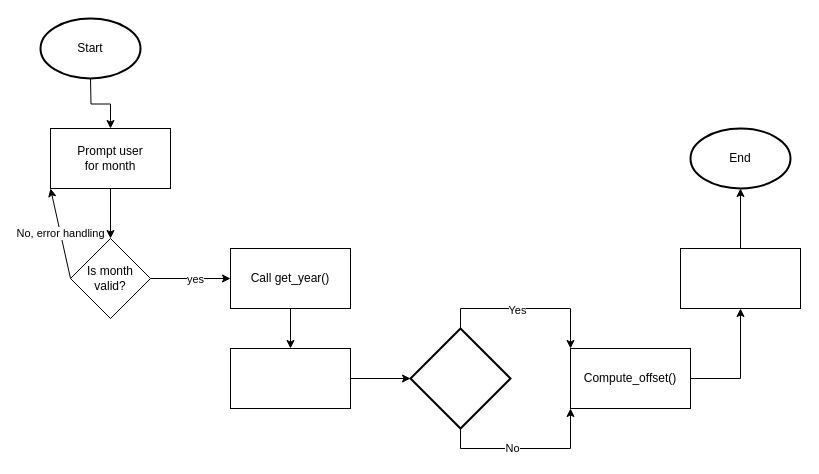
This 819x474 diagram has some shape labels left out. Each missing label, with the centre of its shape:
Call #_of_days(): [290,378]
Display_table(): [740,278]
Is it a leap year?: [460,378]
